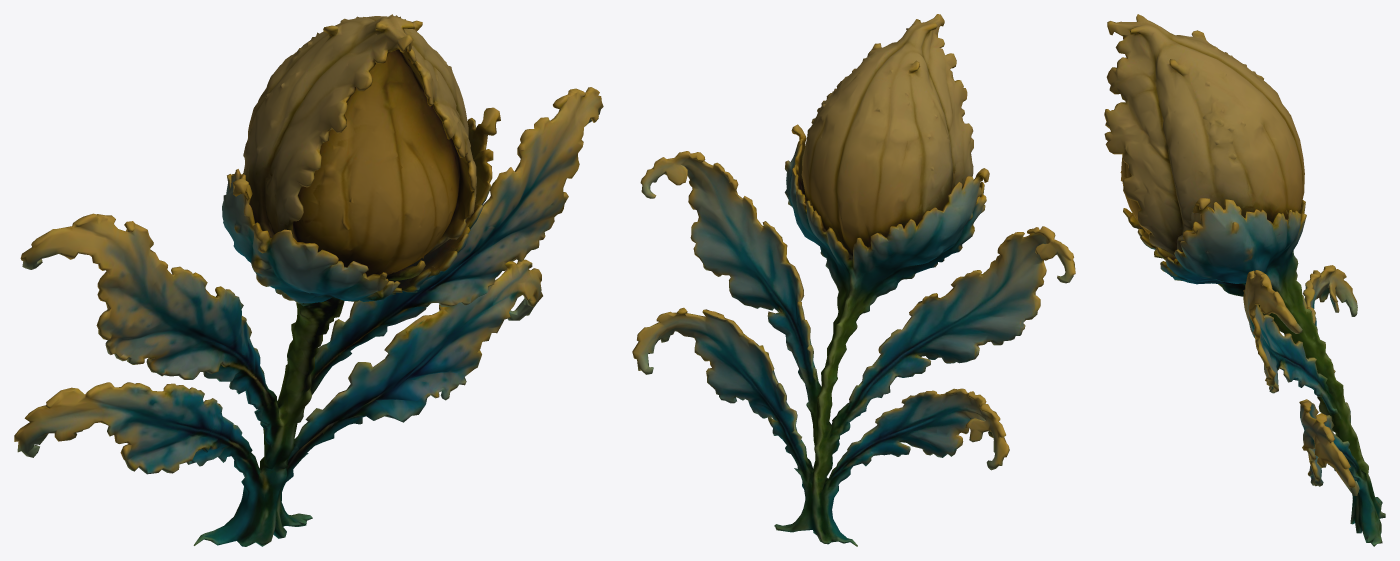
The model's file is stylized+plant+3d+model+1k.glb.
3 views of the same model, side by side, from view 1: azimuth 30°, elevation 25°; view 2: azimuth 150°, elevation 25°; view 3: azimuth 270°, elevation 25° (orthographic). The views are drawn at different scales.
Parts seen in each view (by area): view 1: tripo_node_bfc4e48c-76f9-4628-8e12-bb5452553abf; view 2: tripo_node_bfc4e48c-76f9-4628-8e12-bb5452553abf; view 3: tripo_node_bfc4e48c-76f9-4628-8e12-bb5452553abf.
Part boxes in pixels (bbox=[...]): tripo_node_bfc4e48c-76f9-4628-8e12-bb5452553abf: bbox=[14, 14, 603, 546]; tripo_node_bfc4e48c-76f9-4628-8e12-bb5452553abf: bbox=[632, 14, 1075, 546]; tripo_node_bfc4e48c-76f9-4628-8e12-bb5452553abf: bbox=[1104, 14, 1385, 546].
Size of the model in its own units: 0.9982 by 1 by 0.5062.
1 material, 1 textured.
